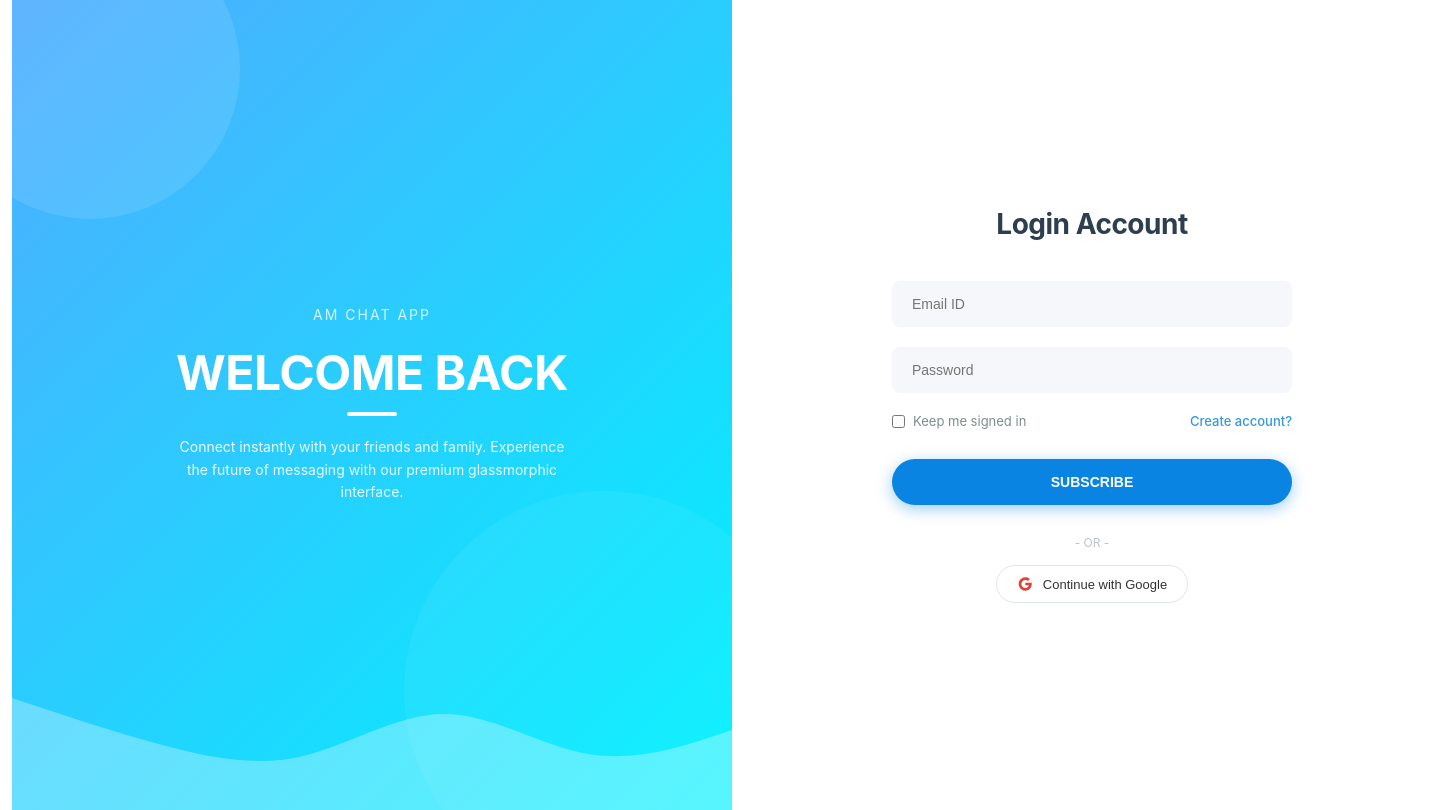
Test: Login Component › toggles to Sign Up view
The width and height of the screenshot is (1452, 810).
Click the text "Create account?".
click(1241, 421)  # box [1190,413,1292,429]
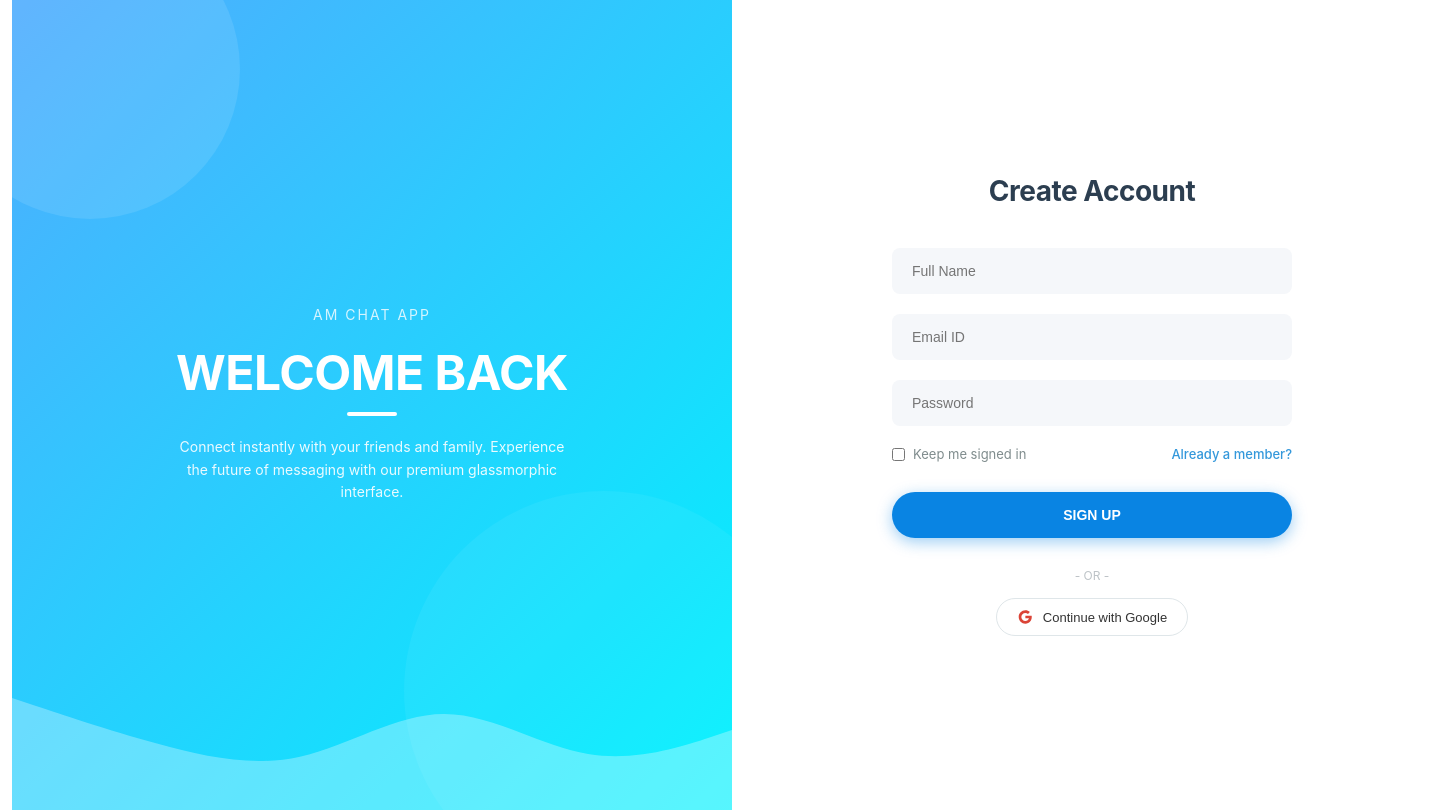
Check: the heading "Create Account" is shown, box [989,174,1195,208]
Check: the button "SIGN UP" is shown, box [892,492,1292,538]
Check: the field with placeholder "Full Name" is shown, box [892,248,1292,294]
